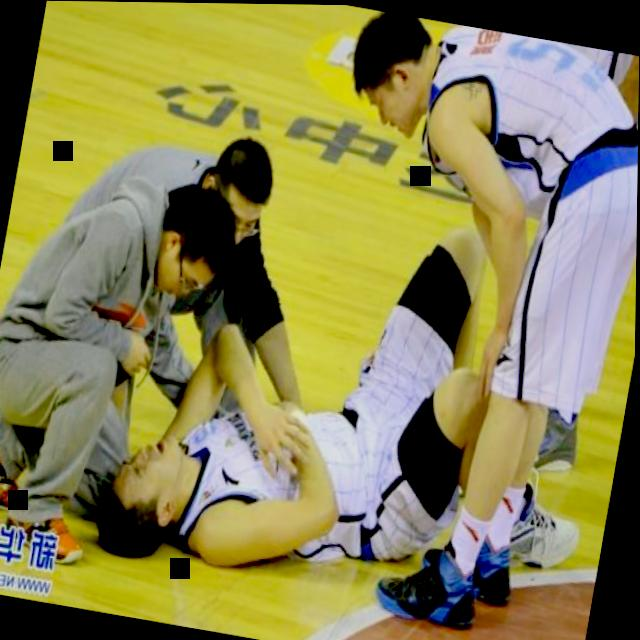Fall-Detected: (83, 165, 594, 635)
